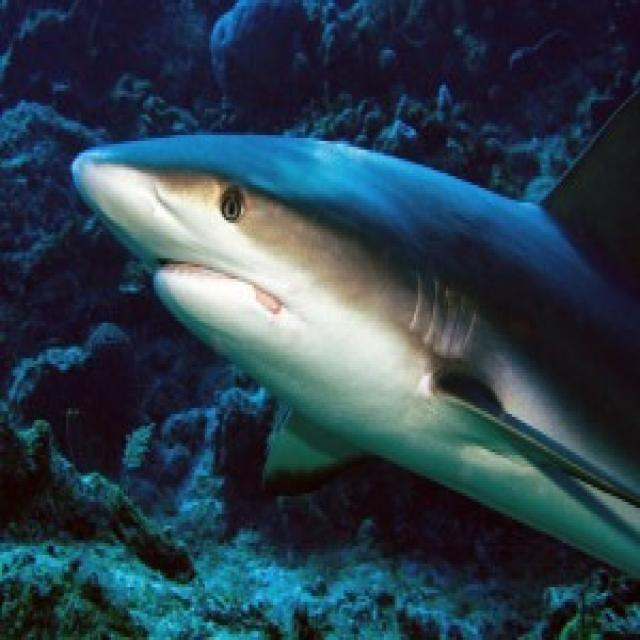Shark: (73, 108, 640, 582)
